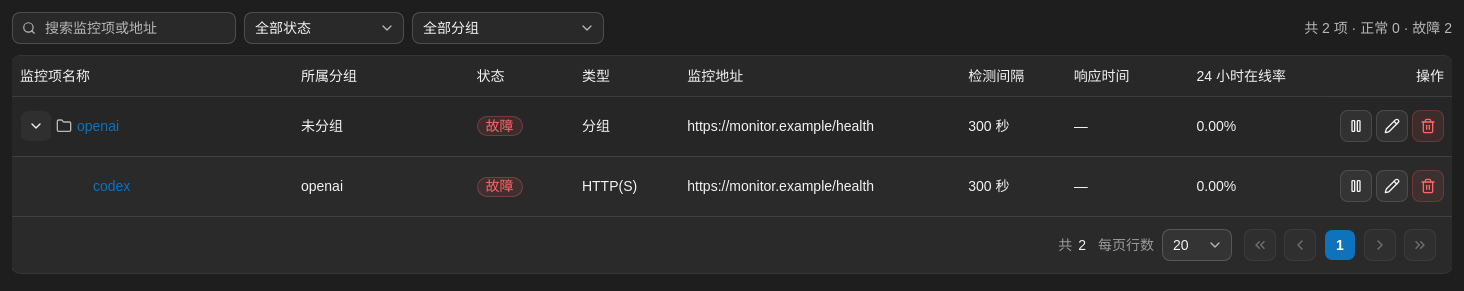
Test: 监控分组 › 收起分组后搜索子项，会展开匹配的父组并保留层级
Step 1. Click the button named "收起分组 openai" → (36, 126), box [20,110,52,142]
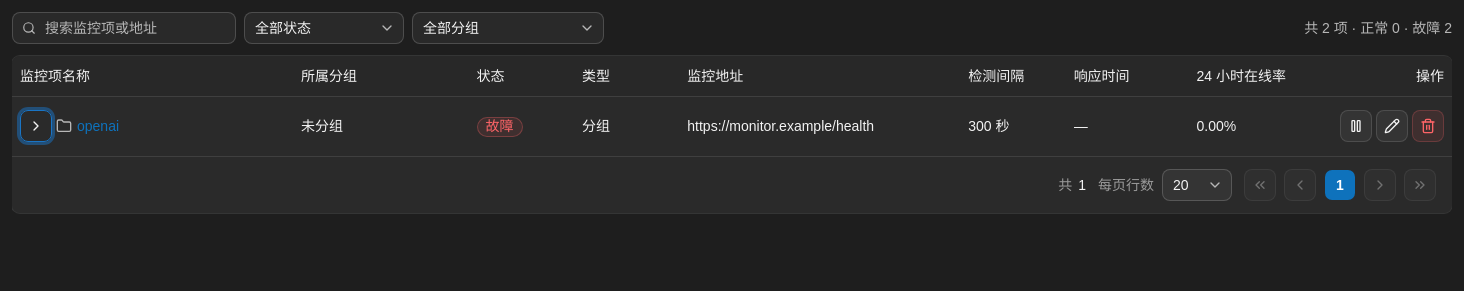
Step 2. Type "codex" into the field labelled "搜索监控项或地址" → (124, 28), box [12,12,236,44]
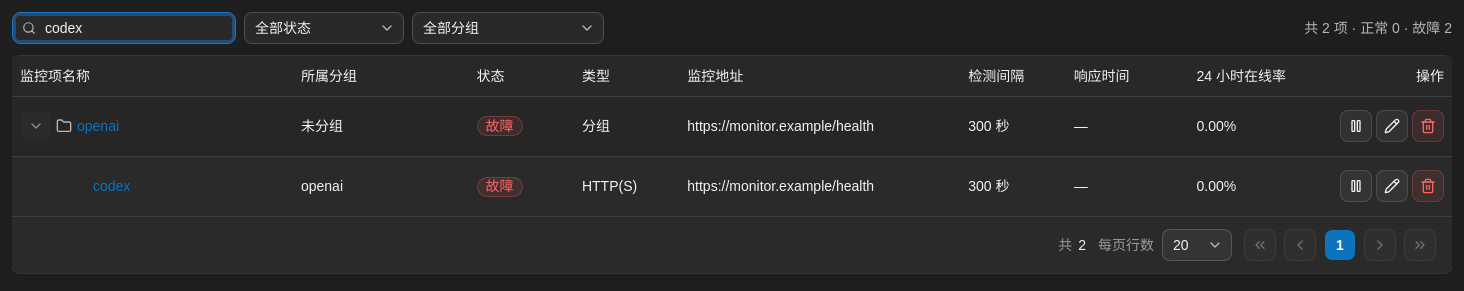
Check: the button with aria-label "查看 openai 详情" is shown, box [76,110,285,142]
Check: the button with aria-label "查看 codex 详情" is shown, box [92,170,285,202]
